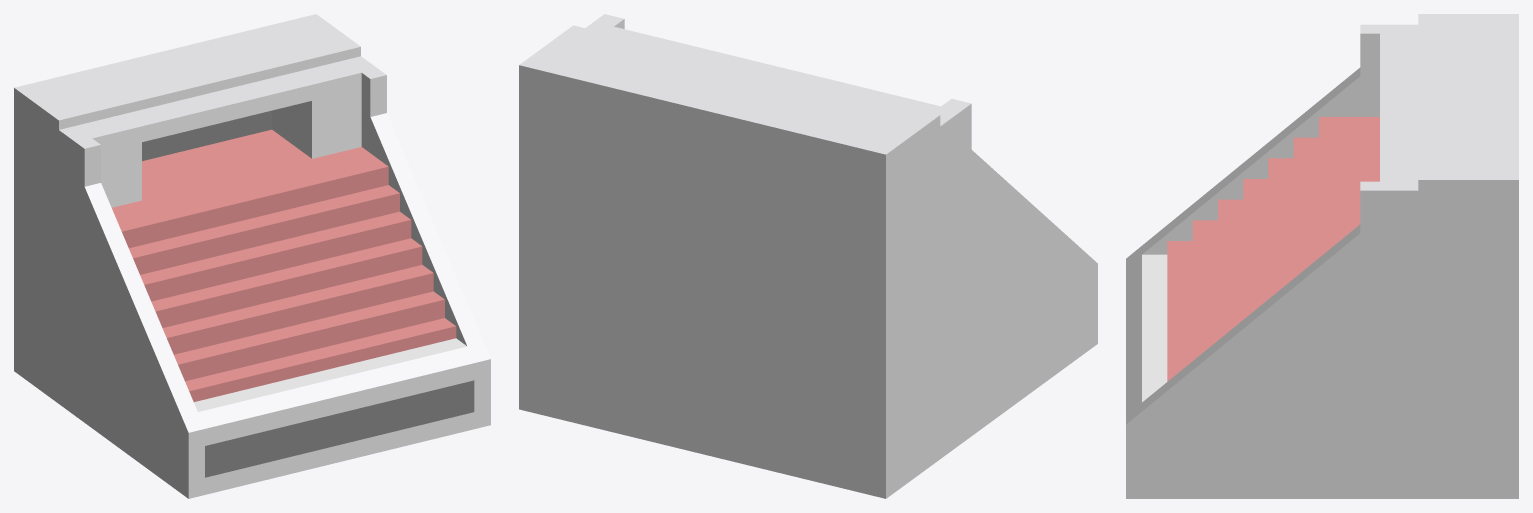
File: grandStand.glb
3 renders of one model, left to right at view 1: azimuth 30°, elevation 25°; view 2: azimuth 150°, elevation 25°; view 3: azimuth 270°, elevation 25°, orthographic. The views are drawn at different scales.
Parts seen in each view (by area): view 1: grandStand(Clone); view 2: grandStand(Clone); view 3: grandStand(Clone).
Part boxes in pixels (box(x1,y1,x2,y2)): grandStand(Clone): box(14, 14, 490, 498); grandStand(Clone): box(519, 14, 1097, 498); grandStand(Clone): box(1126, 14, 1518, 498).
Size of the model in its own units: 1 by 0.8963 by 1.
1 material, 1 textured.
